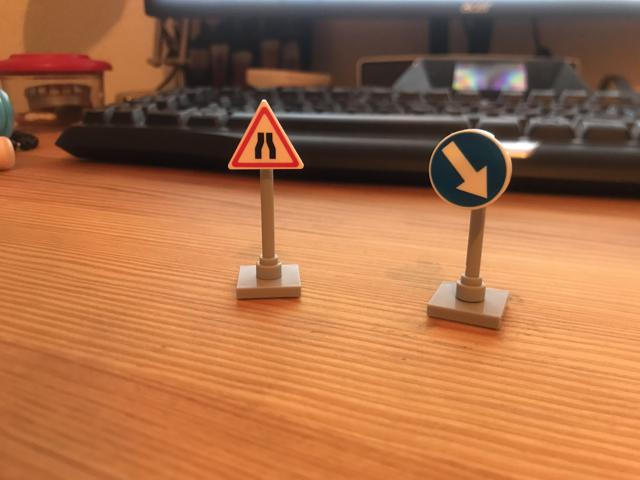rechts halten: (429, 129, 511, 209)
verengte fahrbahn: (226, 99, 304, 169)
